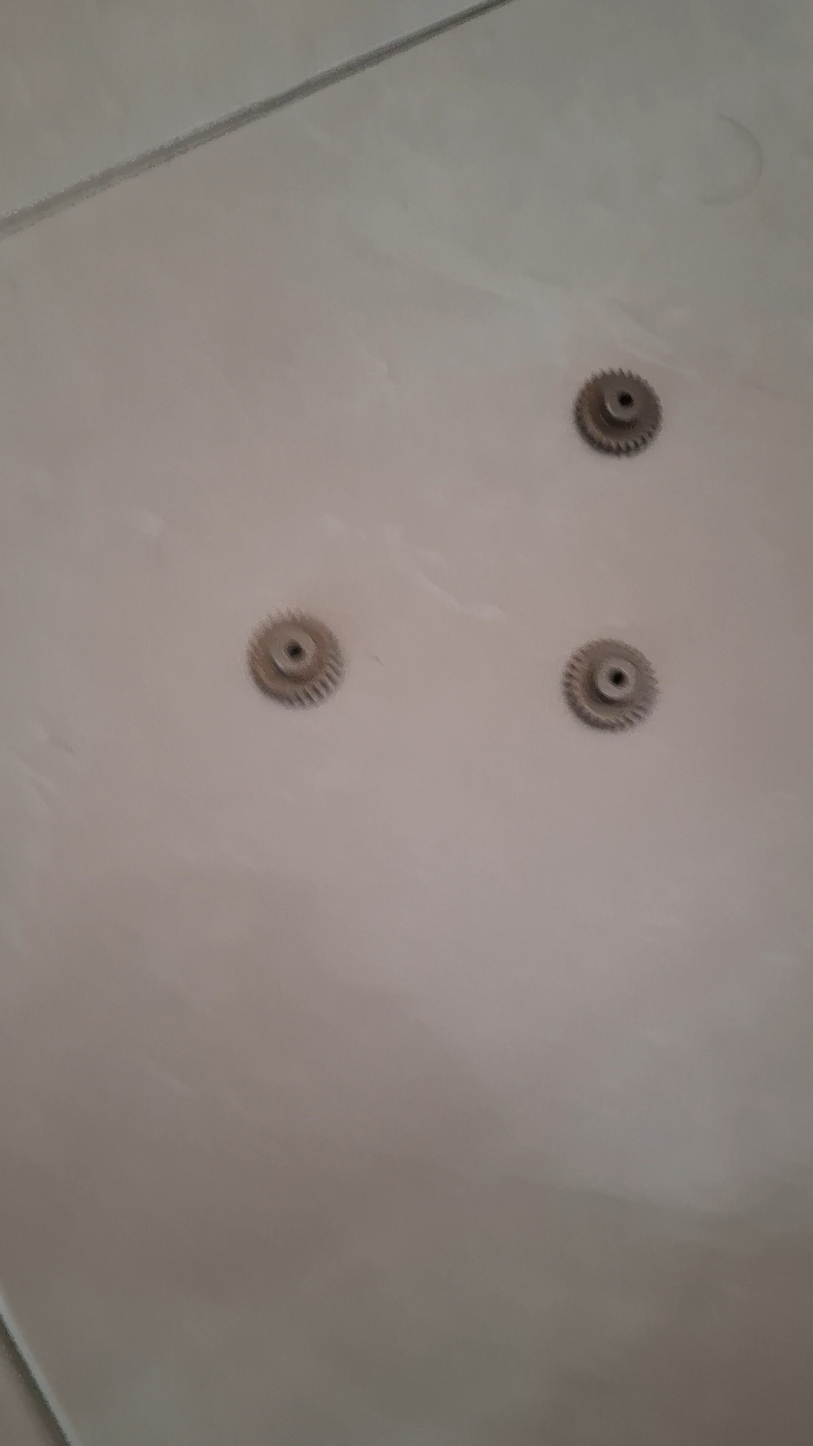spur gear: (226, 586, 320, 677), (541, 624, 634, 714), (564, 354, 649, 439)
